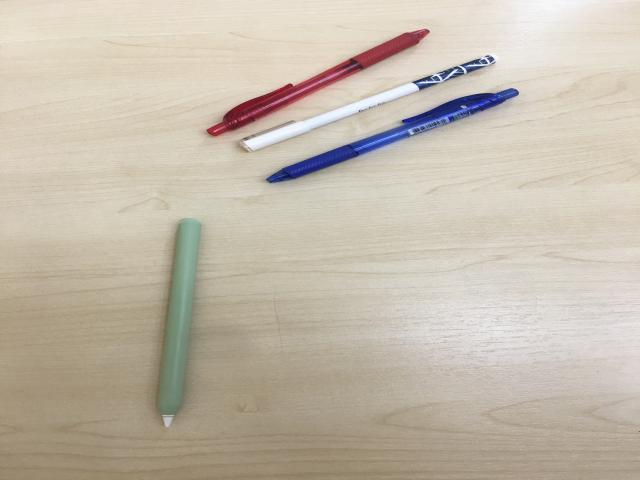Pen: (240, 55, 498, 152), (207, 29, 430, 136), (267, 88, 518, 183), (158, 218, 200, 427)
